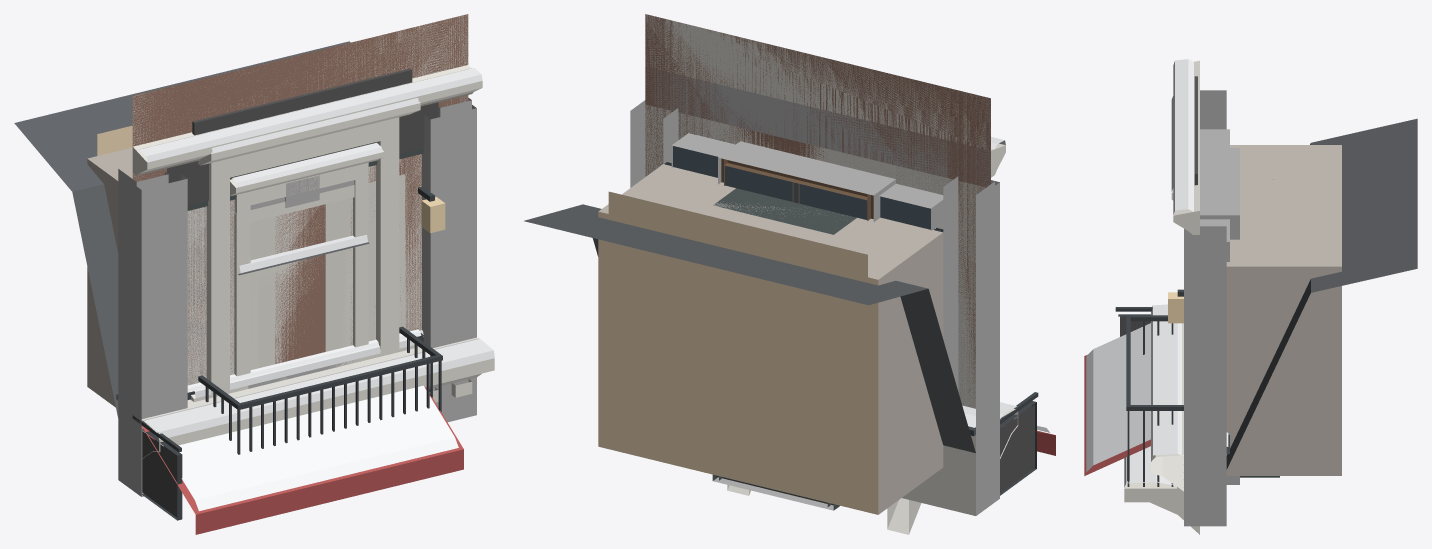
Rendered from stockholm_facade_kit.glb.
The picture shows the model from 3 angles, left to right: view 1: azimuth 30°, elevation 25°; view 2: azimuth 150°, elevation 25°; view 3: azimuth 270°, elevation 25°; orthographic projection. The views are drawn at different scales.
Parts seen in each view (by area): view 1: win_tower__stone, awning__snow, portal__trim, ground_brick__brick, blank__wall, mansard__roof, win_brick_pair__brick, win_surround__trim, win_balcony__wall, awning__awning, shop_door__stone, cornice__snow (+24 smaller); view 2: ground_brick__shop_interior, shop_door__shop_interior, ground_brick__brick, shop_glass__shop_side, portal__stone, portal__wall, mansard__roof, shop_door__stone, blank__wall, win_modern__wall, shop_door__frame_dark, parapet__wall (+11 smaller); view 3: shop_glass__shop_side, mansard__roof, shop_door__stone, awning__snow, cornice__snow, win_tower__stone, portal__stone, shop_door__snow, win_balcony__metal, win_balcony__trim, cornice__trim, ground_brick__stone (+6 smaller).
Part boxes in pixels (x1,y1,x2,y2): win_tower__stone: [132, 105, 476, 496]; awning__snow: [179, 385, 458, 511]; portal__trim: [132, 65, 470, 397]; ground_brick__brick: [132, 14, 468, 181]; blank__wall: [187, 162, 421, 385]; mansard__roof: [14, 41, 350, 417]; win_brick_pair__brick: [275, 154, 421, 363]; win_surround__trim: [230, 149, 384, 376]; win_balcony__wall: [187, 154, 421, 384]; awning__awning: [141, 387, 463, 534]; shop_door__stone: [118, 98, 471, 492]; cornice__snow: [143, 338, 494, 439]; ground_brick__shop_interior: [608, 191, 867, 507]; shop_door__shop_interior: [598, 211, 878, 514]; ground_brick__brick: [645, 14, 990, 398]; shop_glass__shop_side: [598, 164, 943, 514]; portal__stone: [645, 67, 990, 406]; portal__wall: [645, 14, 990, 150]; mansard__roof: [524, 204, 975, 453]; shop_door__stone: [630, 100, 994, 515]; blank__wall: [645, 104, 984, 408]; win_modern__wall: [647, 109, 982, 408]; shop_door__frame_dark: [666, 162, 943, 510]; parapet__wall: [902, 435, 975, 515]; shop_glass__shop_side: [1226, 145, 1341, 475]; mansard__roof: [1226, 118, 1417, 469]; shop_door__stone: [1192, 90, 1226, 526]; awning__snow: [1086, 323, 1150, 471]; cornice__snow: [1151, 304, 1183, 461]; win_tower__stone: [1184, 229, 1199, 526]; portal__stone: [1200, 148, 1239, 484]; shop_door__snow: [1173, 59, 1193, 214]; win_balcony__metal: [1126, 315, 1183, 486]; win_balcony__trim: [1124, 482, 1199, 534]; cornice__trim: [1151, 323, 1183, 498]; ground_brick__stone: [1196, 129, 1229, 261].
Bounding box in the file's own units: 4 × 5.05 × 3.75.
